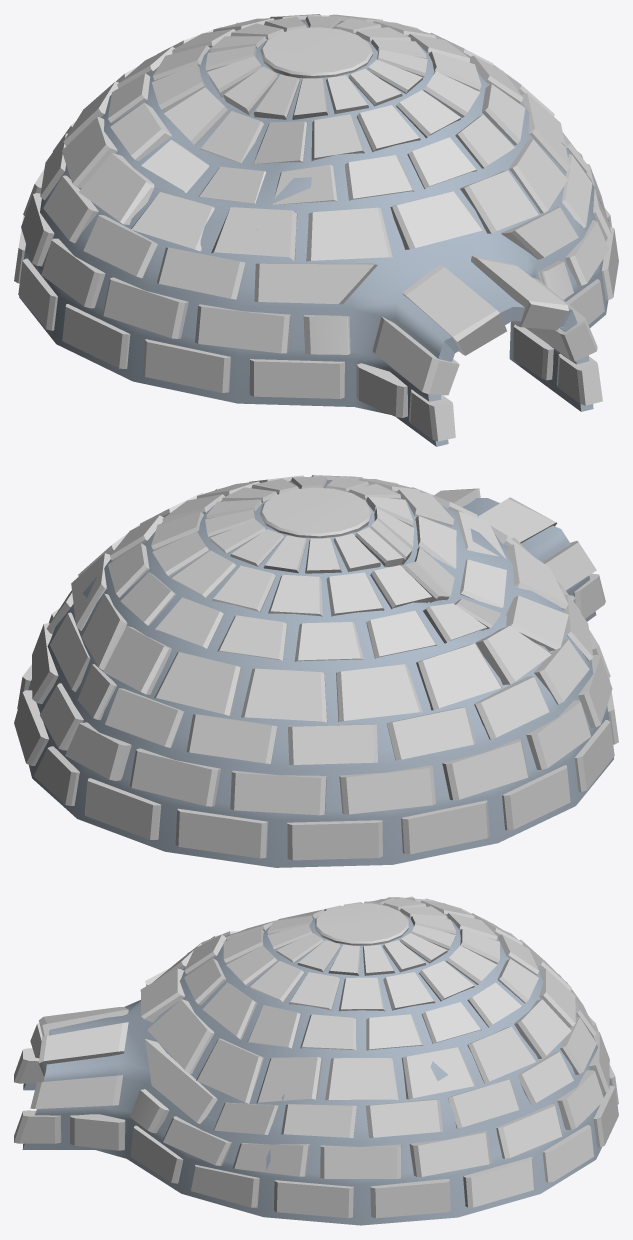
The model's file is meltyIgloo.fbx.
3 renders of one model, top to bottom at view 1: azimuth 30°, elevation 25°; view 2: azimuth 150°, elevation 25°; view 3: azimuth 270°, elevation 25°, orthographic. The views are drawn at different scales.
Visible parts, largest first — view 1: meltyBricks, meltySupport; view 2: meltyBricks, meltySupport; view 3: meltyBricks, meltySupport.
Part boxes in pixels (x1=…): meltyBricks: x1=14, y1=14, x2=618, y2=441; meltySupport: x1=19, y1=19, x2=608, y2=446; meltyBricks: x1=14, y1=475, x2=618, y2=860; meltySupport: x1=28, y1=480, x2=613, y2=867; meltyBricks: x1=14, y1=896, x2=618, y2=1218; meltySupport: x1=22, y1=910, x2=611, y2=1225.
Bounding box in the file's own units: 619 × 264 × 729.
